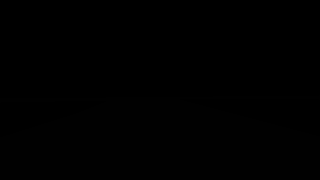turn_left: (174, 70, 184, 80)
